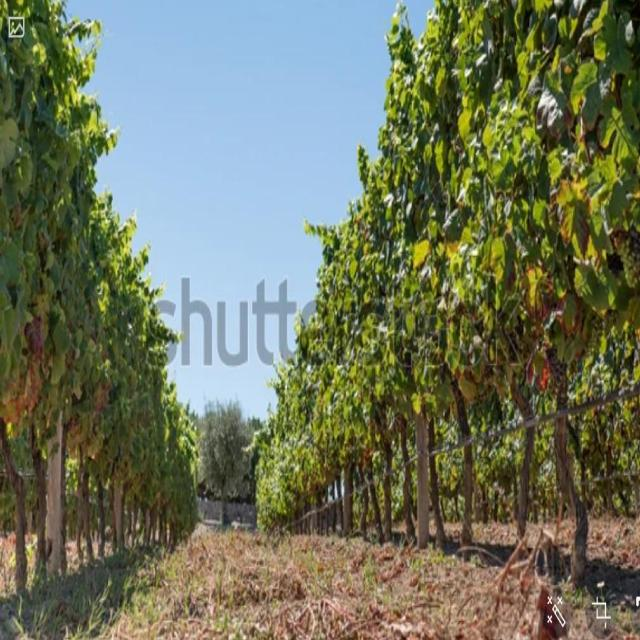row: (25, 520, 640, 640)
